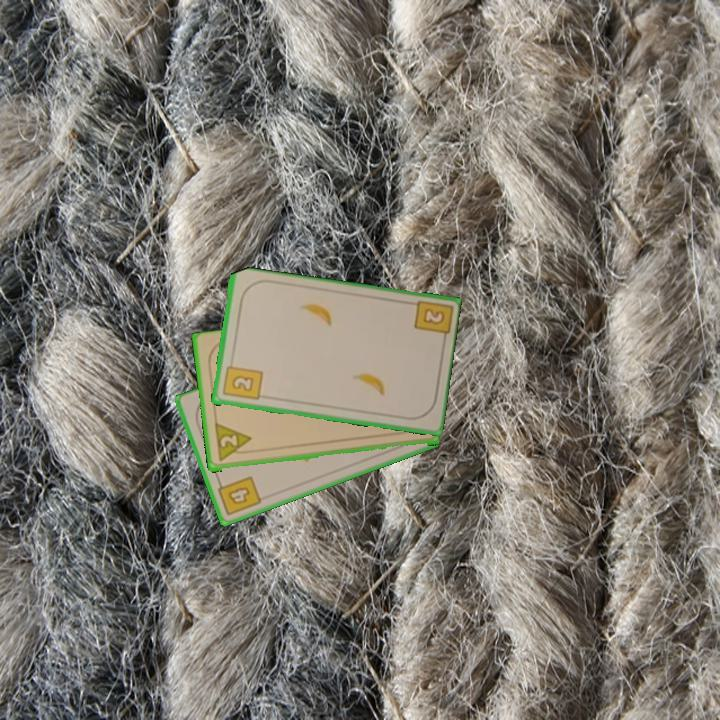2b: (219, 357, 264, 403), (419, 305, 447, 328)
2p: (211, 421, 255, 465)
4b: (214, 473, 264, 519)
